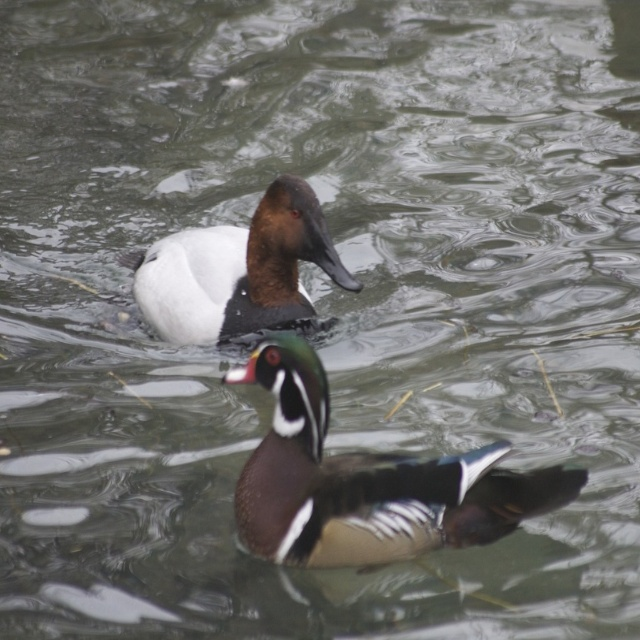Duck: (218, 334, 588, 570), (128, 170, 374, 366)
